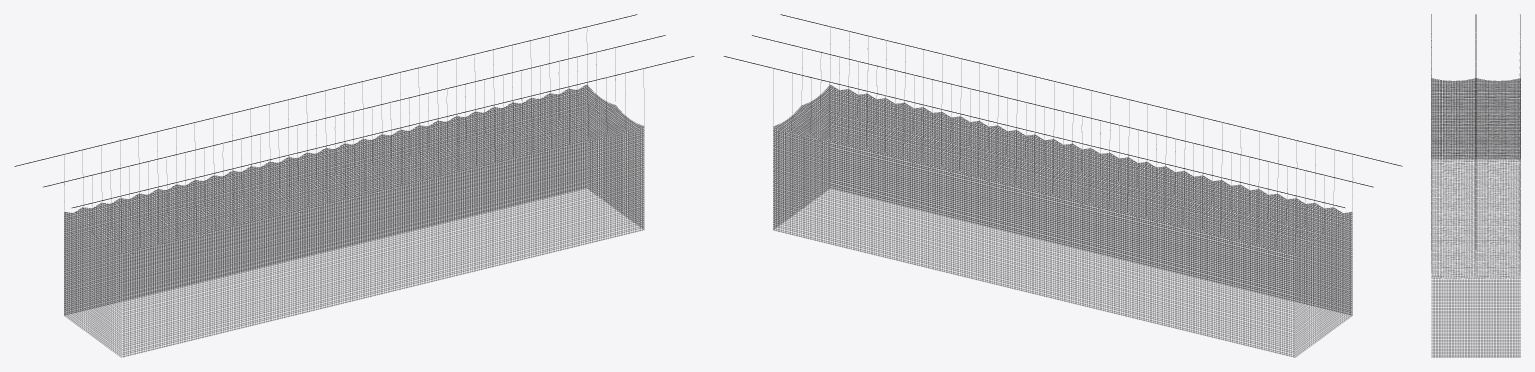
File: CurtainCage Easy Slide.glb
3 views of the same model, side by side, from view 1: azimuth 30°, elevation 25°; view 2: azimuth 150°, elevation 25°; view 3: azimuth 270°, elevation 25° (orthographic). The views are drawn at different scales.
Visible parts, largest first — view 1: Cylinder.110; view 2: Cylinder.110; view 3: Cylinder.110.
Part boxes in pixels (left/top/right/bottom): Cylinder.110: left=14, top=14, right=694, bottom=357; Cylinder.110: left=723, top=14, right=1402, bottom=357; Cylinder.110: left=1431, top=14, right=1520, bottom=357.
Bounding box in the file's own units: 25 × 6.24 × 4.02.
3 materials, 1 textured.
